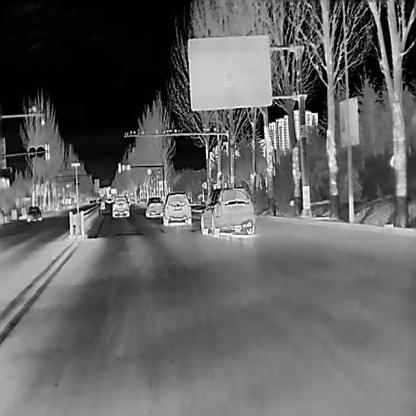car: (200, 186, 254, 237), (162, 189, 191, 225), (110, 195, 130, 217), (144, 195, 163, 216), (26, 204, 41, 221)
